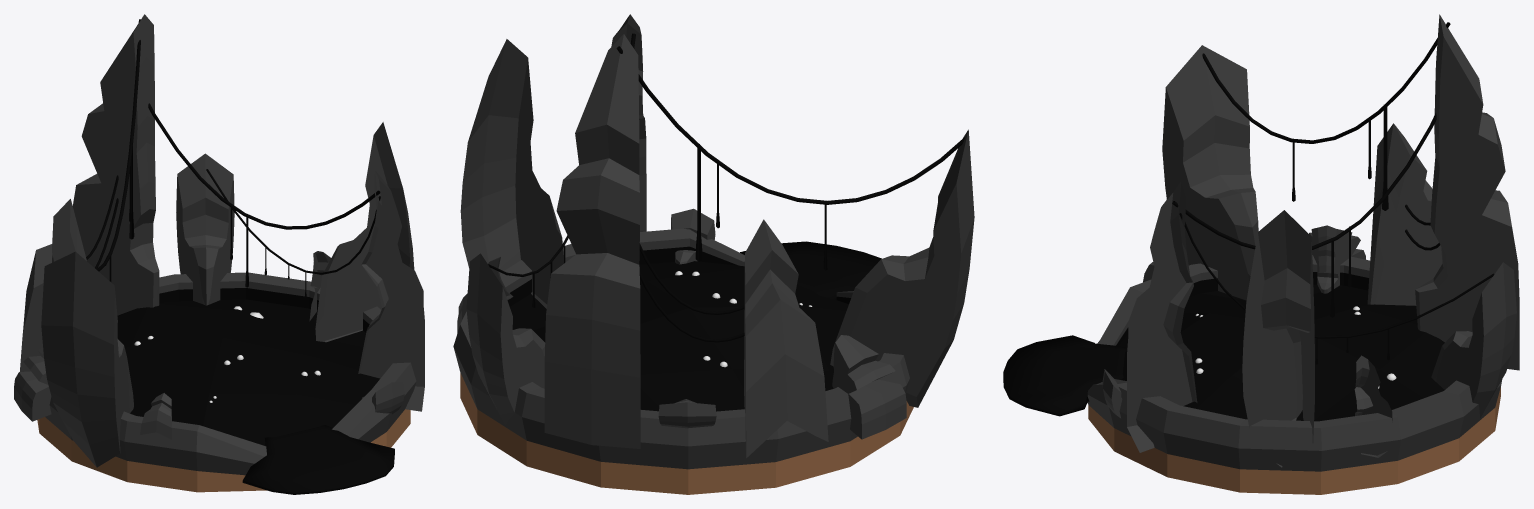
The model's file is MESH_Nid_Trapeur.fbx.
The picture shows the model from 3 angles, left to right: view 1: azimuth 30°, elevation 25°; view 2: azimuth 150°, elevation 25°; view 3: azimuth 270°, elevation 25°; orthographic projection. The views are drawn at different scales.
Parts seen in each view (by area): view 1: MESH_Nid_Trapeur; view 2: MESH_Nid_Trapeur; view 3: MESH_Nid_Trapeur.
Boxes of the visible parts, box(x1,y1,x2,y2) form: MESH_Nid_Trapeur: box(14, 14, 424, 494); MESH_Nid_Trapeur: box(453, 14, 974, 494); MESH_Nid_Trapeur: box(1003, 14, 1519, 494).
Size of the model in its own units: 257 by 227 by 274.
